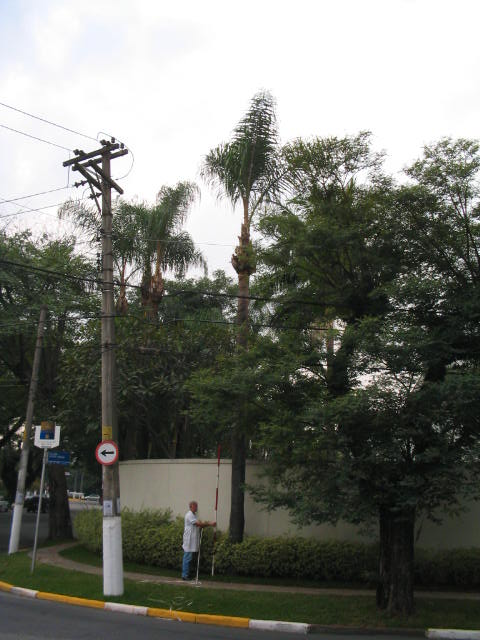crown: (266, 173, 475, 531), (197, 87, 311, 230)
stem: (222, 234, 257, 577), (364, 515, 425, 611)
stick: (205, 443, 224, 576)
tree: (263, 171, 477, 612), (195, 86, 314, 580)
